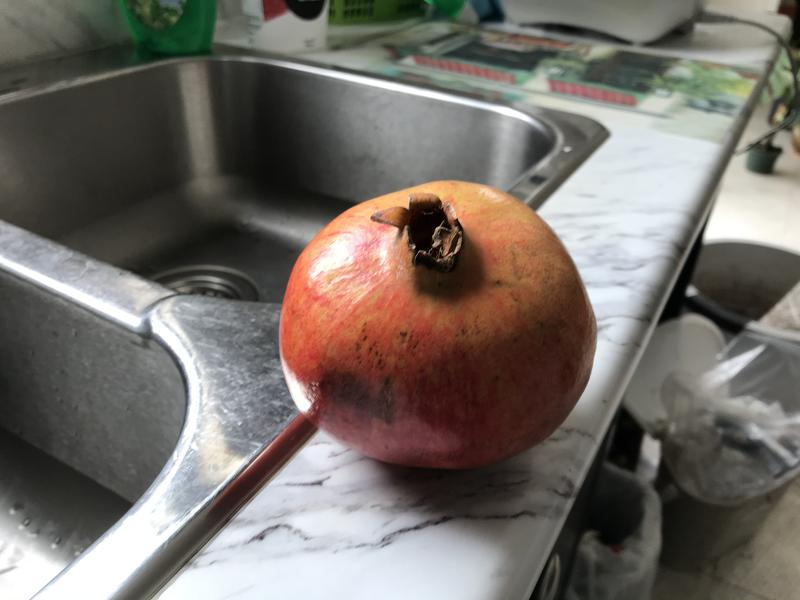pomegranate: (262, 162, 606, 474)
